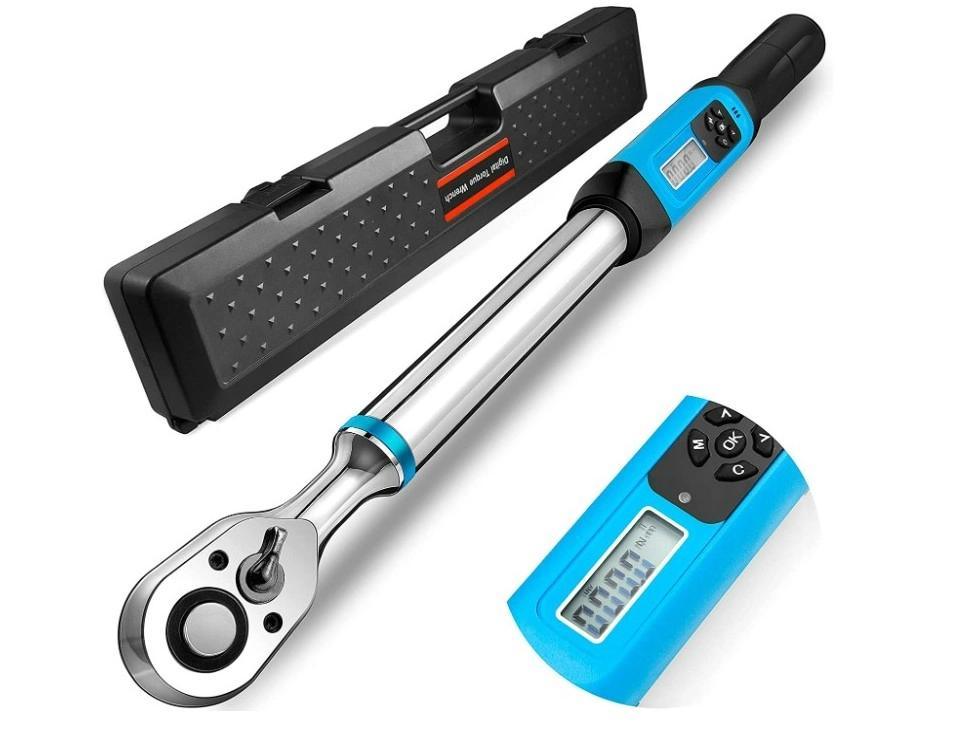Tool: (120, 504, 335, 715)
